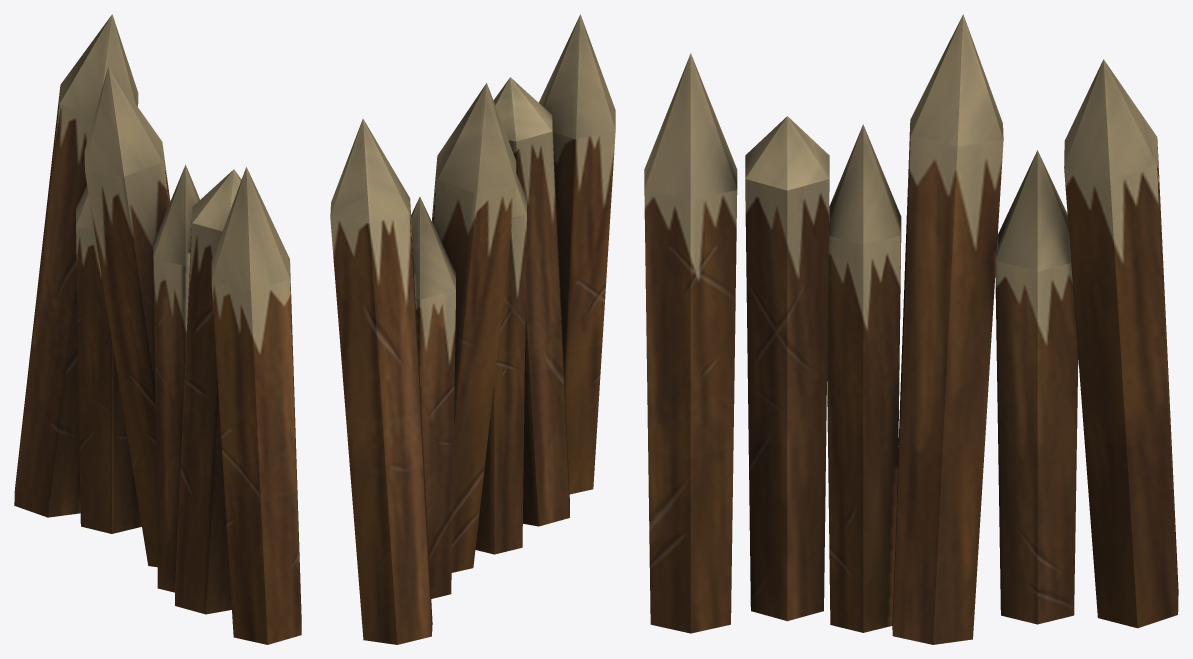
The model's file is modelFence2.fbx.
The picture shows the model from 3 angles, left to right: view 1: azimuth 30°, elevation 25°; view 2: azimuth 150°, elevation 25°; view 3: azimuth 270°, elevation 25°; orthographic projection. The views are drawn at different scales.
Parts seen in each view (by area): view 1: modelFence2; view 2: modelFence2; view 3: modelFence2.
Boxes of the visible parts, x1,y1,x2,y2 form: modelFence2: (14, 14, 301, 644); modelFence2: (330, 14, 615, 644); modelFence2: (644, 14, 1178, 644).
Size of the model in its own units: 5.66 by 22.3 by 18.39.
